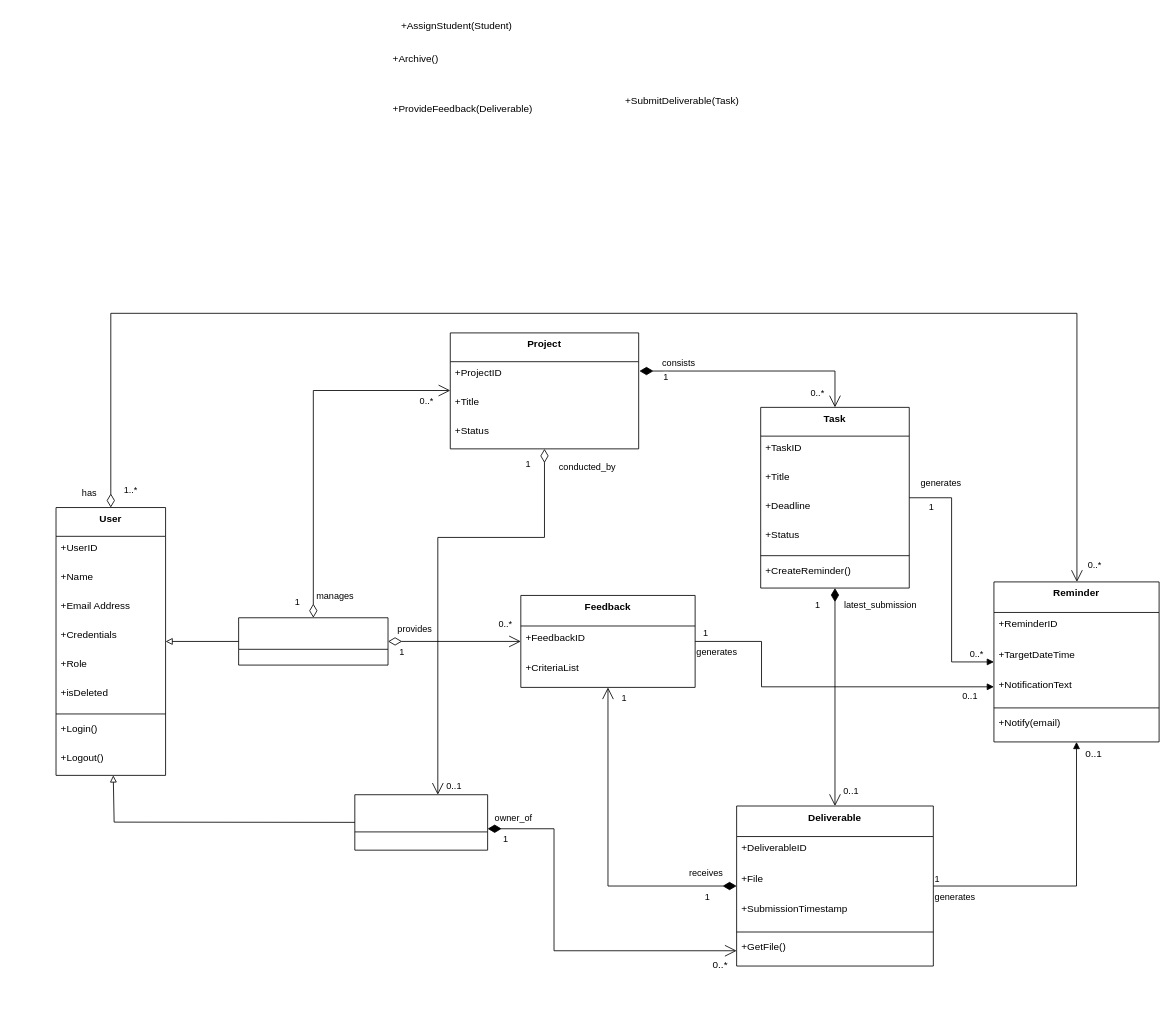
This 1174x1033 diagram has some shape labels left out. Here are the shapes that lost their labels. From the top down, the centre of each, then its label:
the point at 313,641: Supervisor
the point at 421,822: Student
